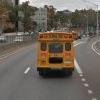Bus: (33, 25, 77, 82)
